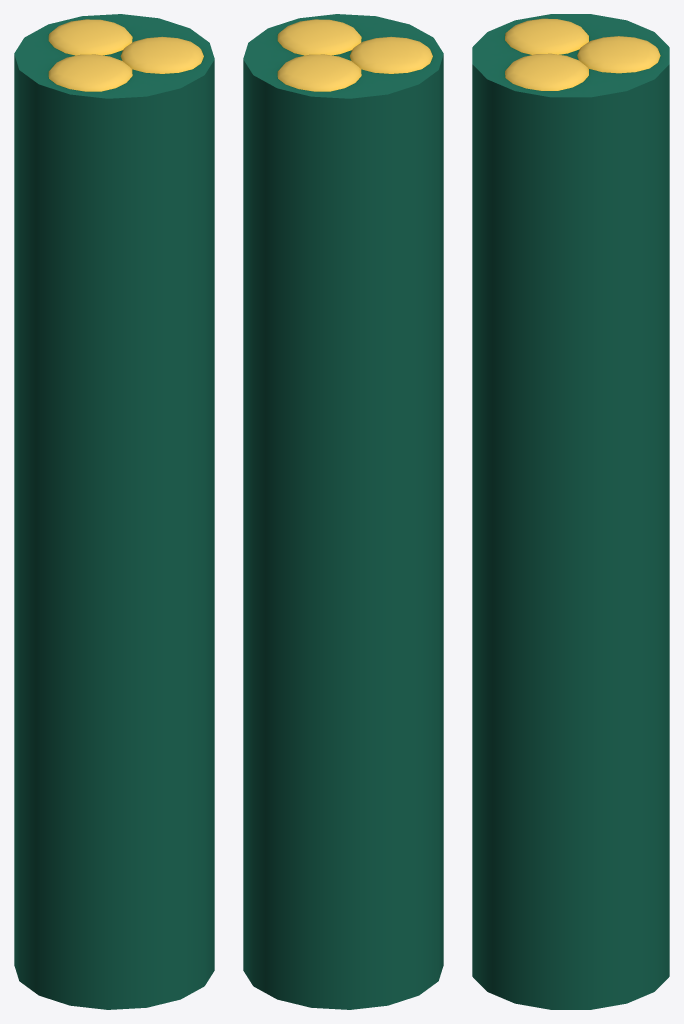
The model's file is elevator03.fbx.
3 renders of one model, left to right at view 1: azimuth 30°, elevation 25°; view 2: azimuth 150°, elevation 25°; view 3: azimuth 270°, elevation 25°, orthographic.
Parts seen in each view (by area): view 1: elevator03_geo, elevator03Mask_geo; view 2: elevator03_geo, elevator03Mask_geo; view 3: elevator03_geo, elevator03Mask_geo.
Part boxes in pixels (x1=…): elevator03_geo: x1=14, y1=14, x2=214, y2=1009; elevator03Mask_geo: x1=48, y1=19, x2=203, y2=91; elevator03_geo: x1=243, y1=14, x2=443, y2=1009; elevator03Mask_geo: x1=277, y1=19, x2=432, y2=91; elevator03_geo: x1=472, y1=14, x2=669, y2=1009; elevator03Mask_geo: x1=505, y1=18, x2=660, y2=90.
Size of the model in its own units: 196 by 1009 by 196.
2 materials, 2 textured.
